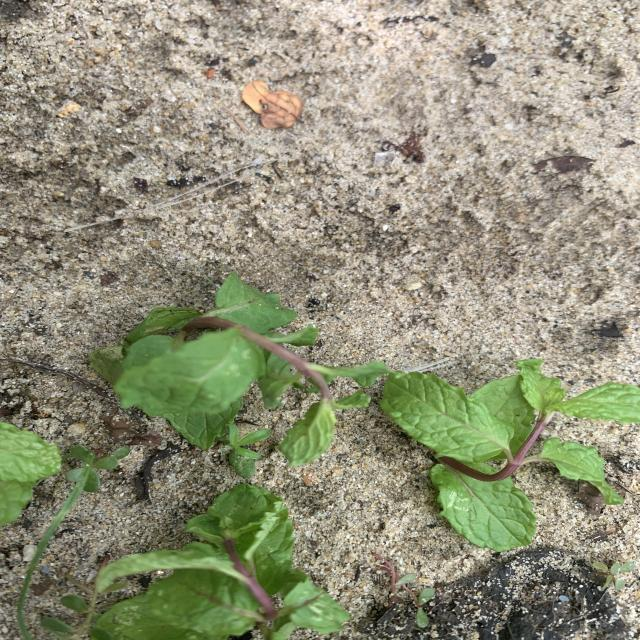crop: (90, 273, 390, 466), (380, 359, 640, 550), (96, 485, 349, 640)
weed: (372, 553, 435, 627), (41, 575, 97, 640), (66, 445, 130, 492), (218, 423, 270, 478), (592, 561, 635, 590)
